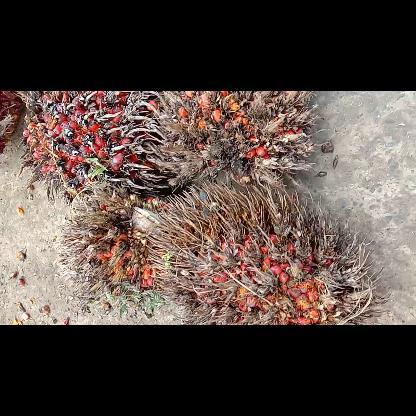Terlalu masak: (121, 180, 392, 324), (16, 90, 180, 208), (52, 178, 184, 316), (152, 91, 324, 195)
